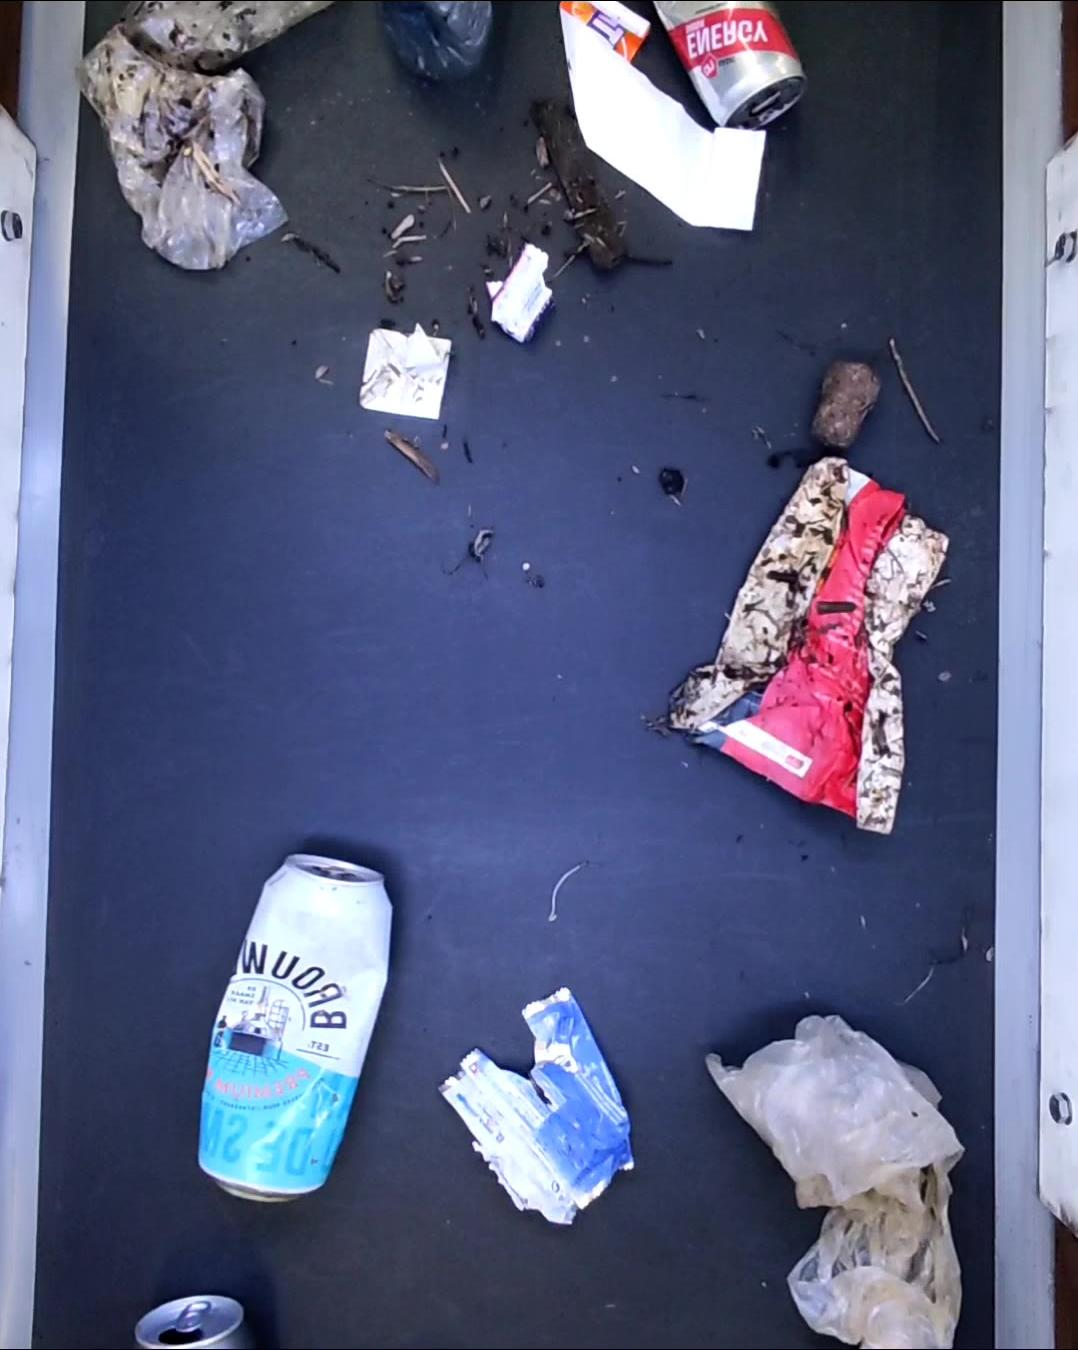Drankblikjes: (201, 852, 393, 1206), (654, 0, 806, 131), (124, 1289, 252, 1350)
Drankflessen - 1-2 liter: (383, 0, 495, 87)
Plastic folies of stukken daarvan 2.5- 50 cm: (700, 1014, 967, 1350), (81, 0, 328, 270), (485, 243, 557, 342)
Snoep snack en chips verpakkingen: (435, 988, 639, 1227)
Voedselverpakkingen: (674, 458, 948, 830)
